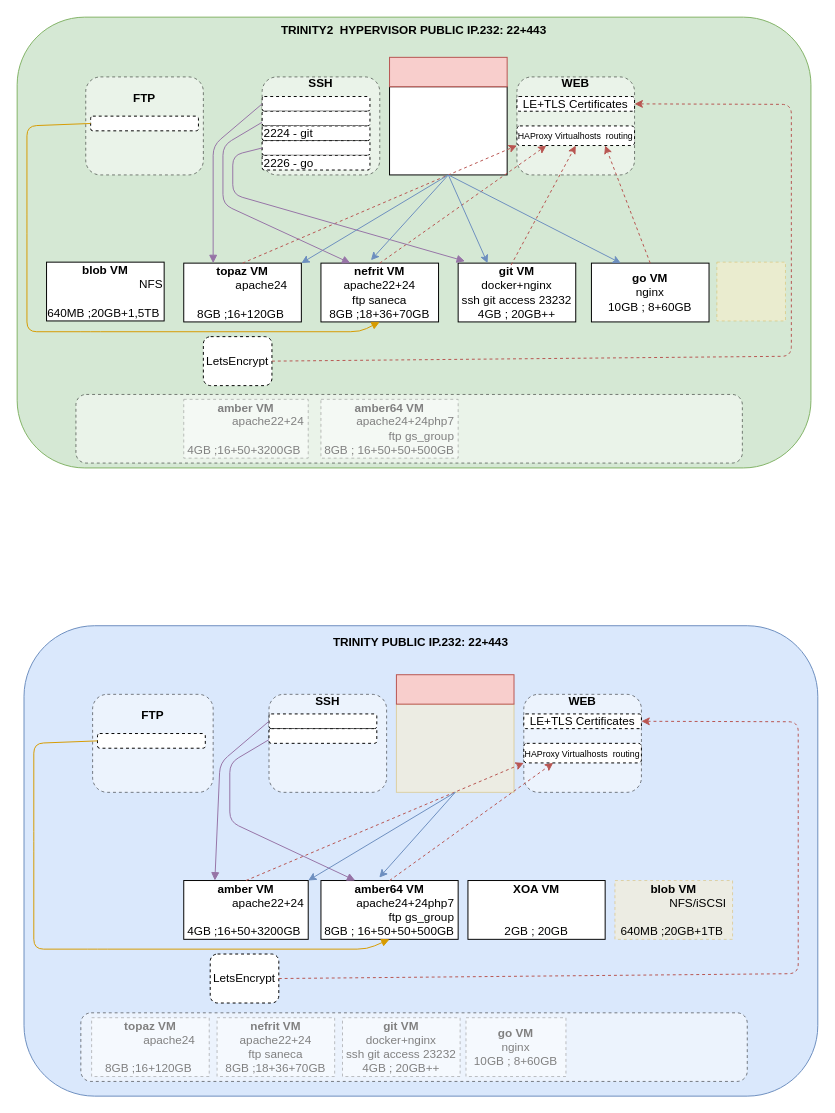
This 835x1113 diagram has some shape labels left out. The centre of each missing label's shape, as x and y in pixels:
"21212 - amber64" goes at (x=151, y=740).
"21212 - nefrit" goes at (x=144, y=123).
"2222 - amber" goes at (x=322, y=721).
"2222 - topaz" goes at (x=315, y=103).
"2223 - amber64" goes at (x=322, y=735).
"2223 - nefrit" goes at (x=315, y=118).
"23232 - git repo ssh" goes at (x=315, y=147).
"BLOB NFS SR" goes at (x=408, y=428).
"BLOB NFS/iSCSI SR" goes at (x=413, y=1046).
"LB PUBLIC IP.233:443 LB PUBLIC IP.233:80" goes at (x=448, y=71).
"LB PUBLIC IP.X:443 LB PUBLIC IP.X:80" goes at (x=454, y=689).
"lb1 proxy VM" goes at (x=448, y=130).
"lb2 proxy VM" goes at (x=454, y=747).
"XOA2 VM 2GB ; 20GB" goes at (x=750, y=291).
